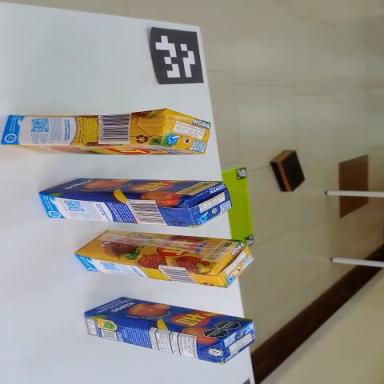HIT-MANGO: (80, 285, 257, 370), (38, 177, 232, 228)
HIT-MORA: (73, 223, 255, 290), (0, 108, 210, 155)
cara_F: (84, 290, 254, 345), (75, 227, 240, 272), (37, 176, 224, 202), (5, 144, 203, 154)
